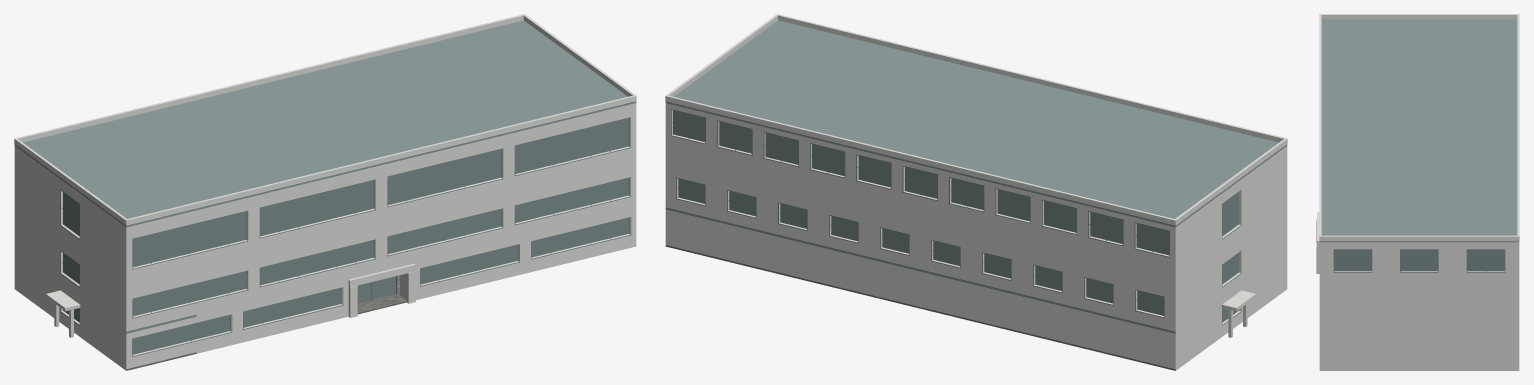
3 renders of one model, left to right at view 1: azimuth 30°, elevation 25°; view 2: azimuth 150°, elevation 25°; view 3: azimuth 270°, elevation 25°, orthographic. The views are drawn at different scales.
Parts seen in each view (by area): view 1: sportsLife__cream, sportsLife__roof, sportsLife__glass, sportsLife__frame, sportsLife__rough; view 2: sportsLife__cream, sportsLife__roof, sportsLife__glass, sportsLife__frame, sportsLife__rough; view 3: sportsLife__roof, sportsLife__cream, sportsLife__glass, sportsLife__frame.
Part boxes in pixels (left/top/right/bottom): sportsLife__cream: left=14, top=14, right=636, bottom=370; sportsLife__roof: left=14, top=20, right=636, bottom=333; sportsLife__glass: left=63, top=118, right=628, bottom=354; sportsLife__frame: left=60, top=117, right=631, bottom=356; sportsLife__rough: left=126, top=275, right=406, bottom=370; sportsLife__cream: left=665, top=14, right=1287, bottom=370; sportsLife__roof: left=665, top=20, right=1287, bottom=333; sportsLife__glass: left=673, top=110, right=1238, bottom=322; sportsLife__frame: left=671, top=109, right=1241, bottom=325; sportsLife__rough: left=665, top=245, right=1175, bottom=370; sportsLife__roof: left=1319, top=19, right=1519, bottom=242; sportsLife__cream: left=1316, top=14, right=1519, bottom=370; sportsLife__glass: left=1334, top=250, right=1504, bottom=271; sportsLife__frame: left=1333, top=249, right=1505, bottom=272.
Bounding box in the file's own units: 49.61 × 13.59 × 18.62.
Materials: 6 (1 with a texture image).
